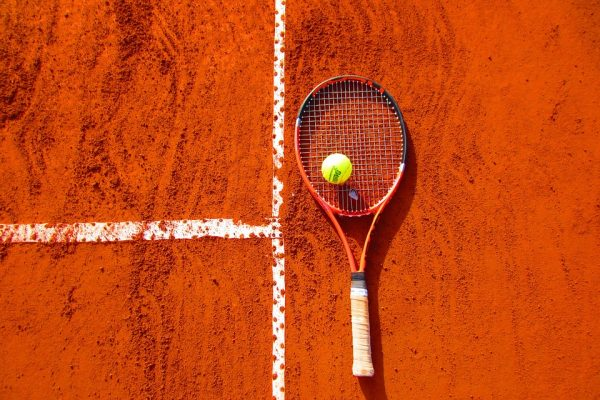tennis_ball: (319, 152, 353, 186)
